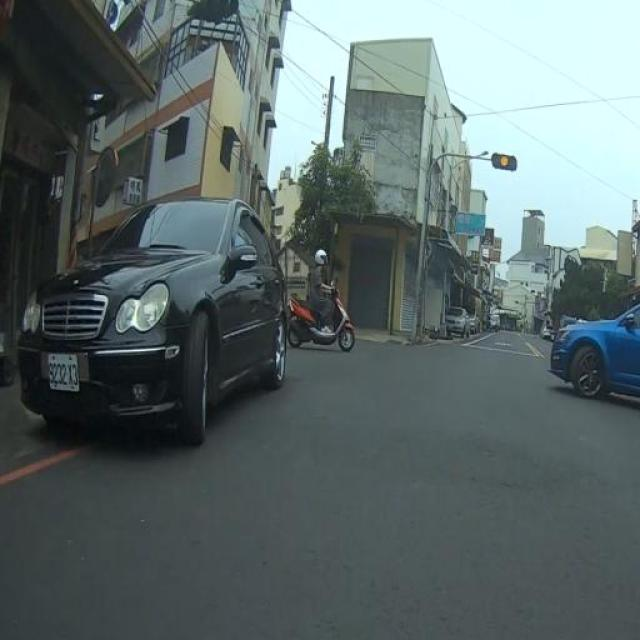illegalparking: (15, 198, 288, 444), (550, 304, 639, 396)
